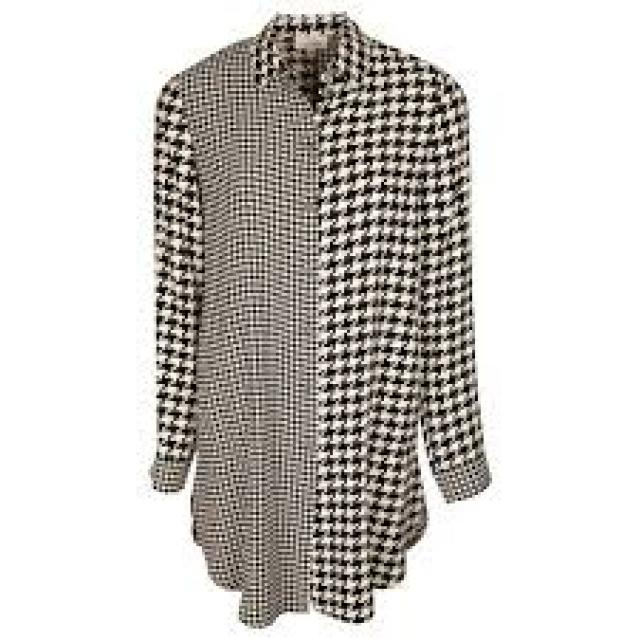plaid: (132, 14, 494, 636)
